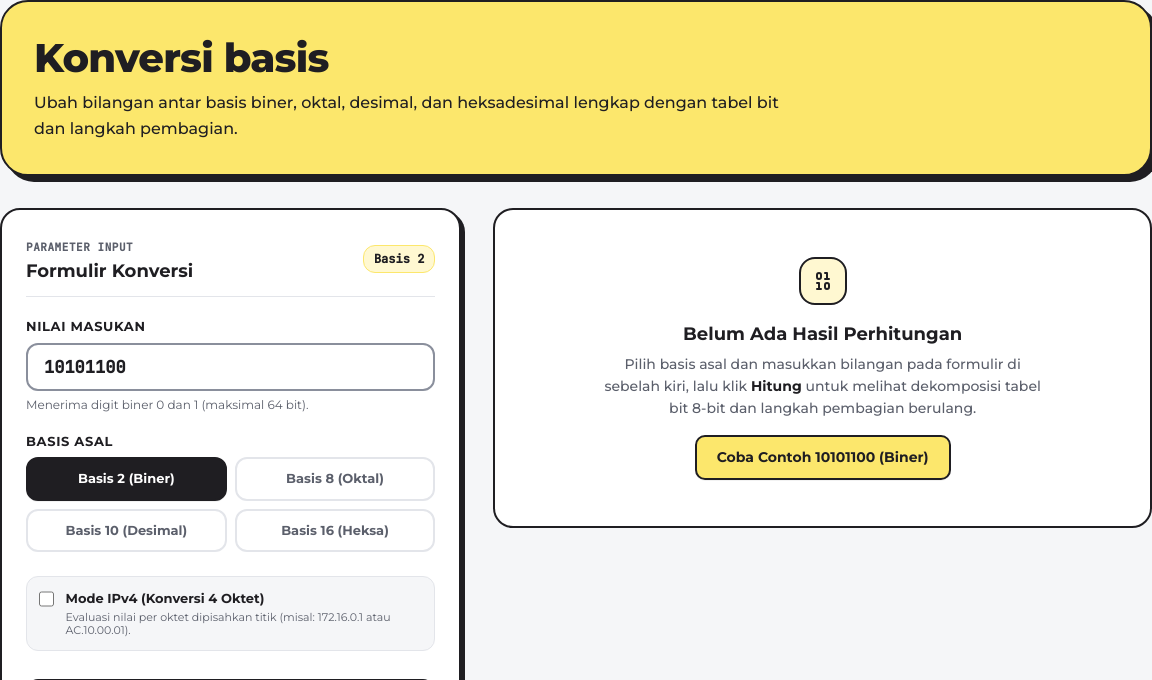
Halaman Konversi Basis › menolak input kosong dengan pesan validasi
The width and height of the screenshot is (1152, 680).
Clear the field labelled "Nilai Masukan" at point(231, 366), box [26, 342, 435, 390]
(page scrolled)
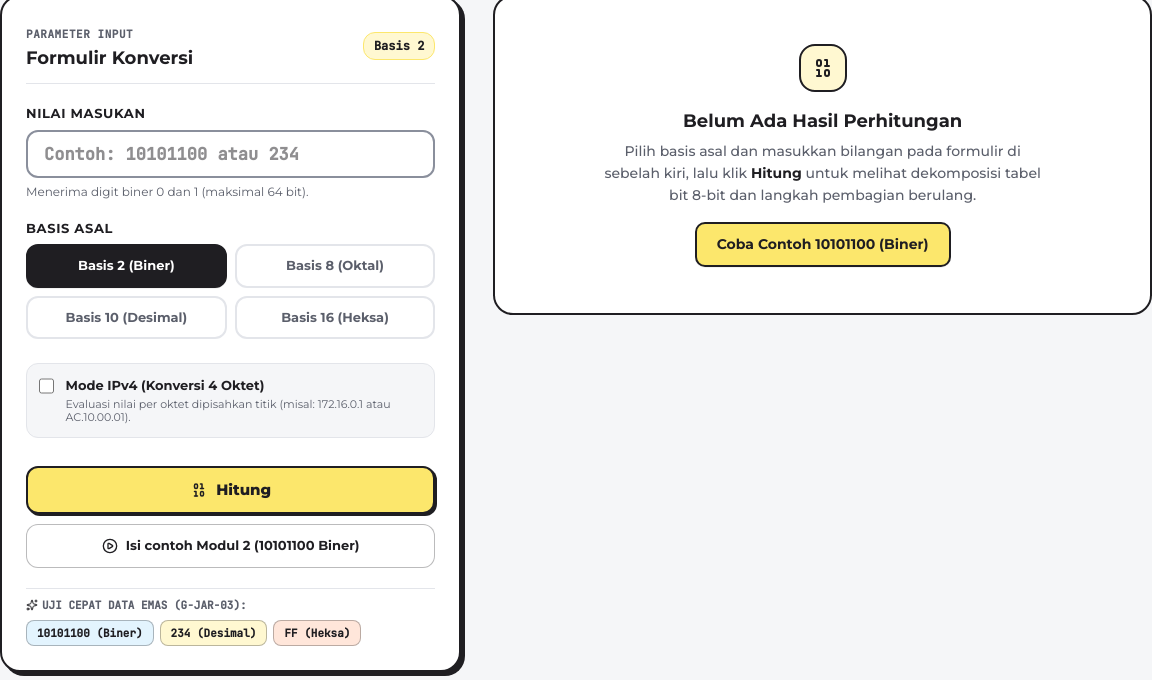
Click the button "Hitung" at point(231, 490), box [26, 466, 435, 514]
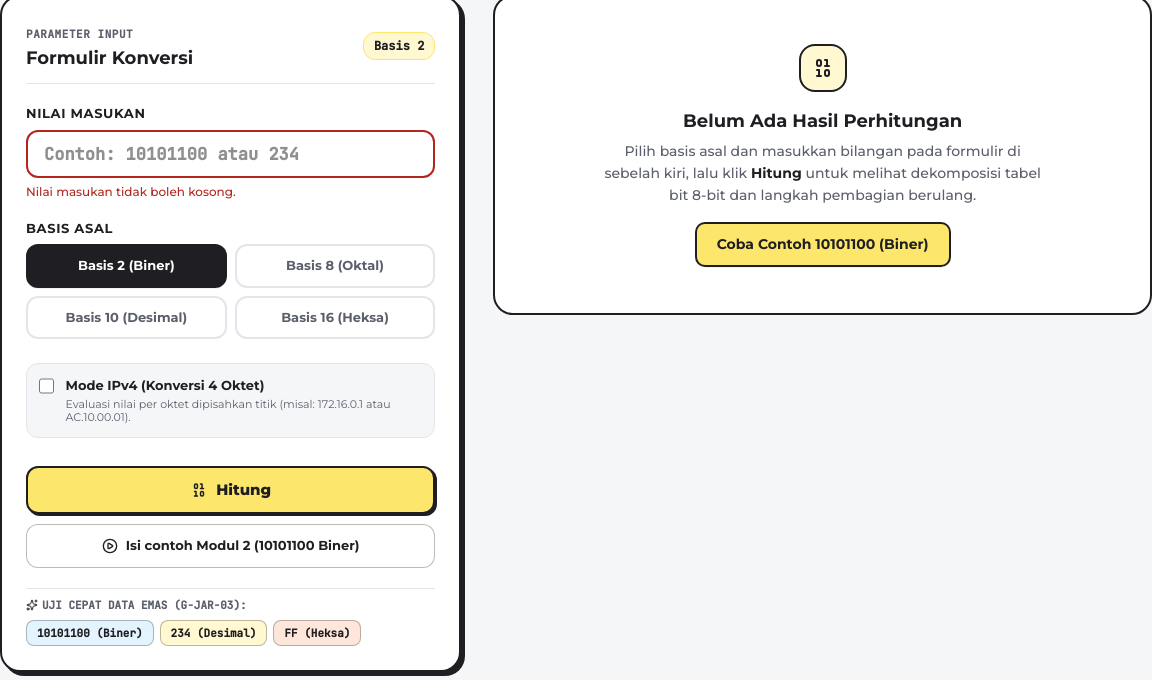
Expected: the text "Nilai masukan tidak boleh kosong." is shown, [26, 184, 236, 198]
